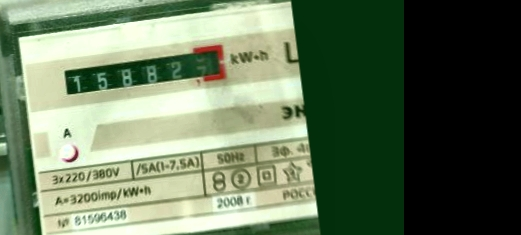1: (70, 74, 81, 93)
2: (168, 59, 182, 80)
5: (92, 70, 108, 91)
7: (193, 63, 206, 76)
8: (142, 62, 158, 84), (119, 66, 133, 87)
screen: (57, 42, 229, 103)
